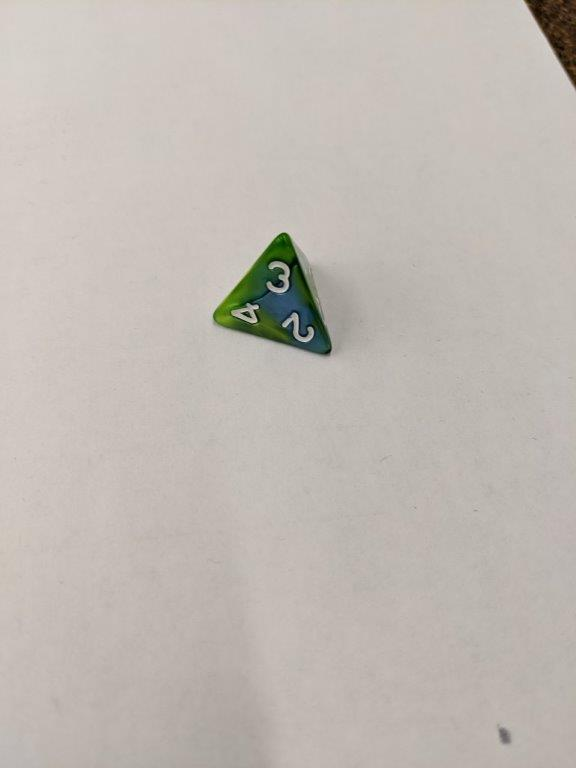d4-3: (210, 234, 336, 359)
